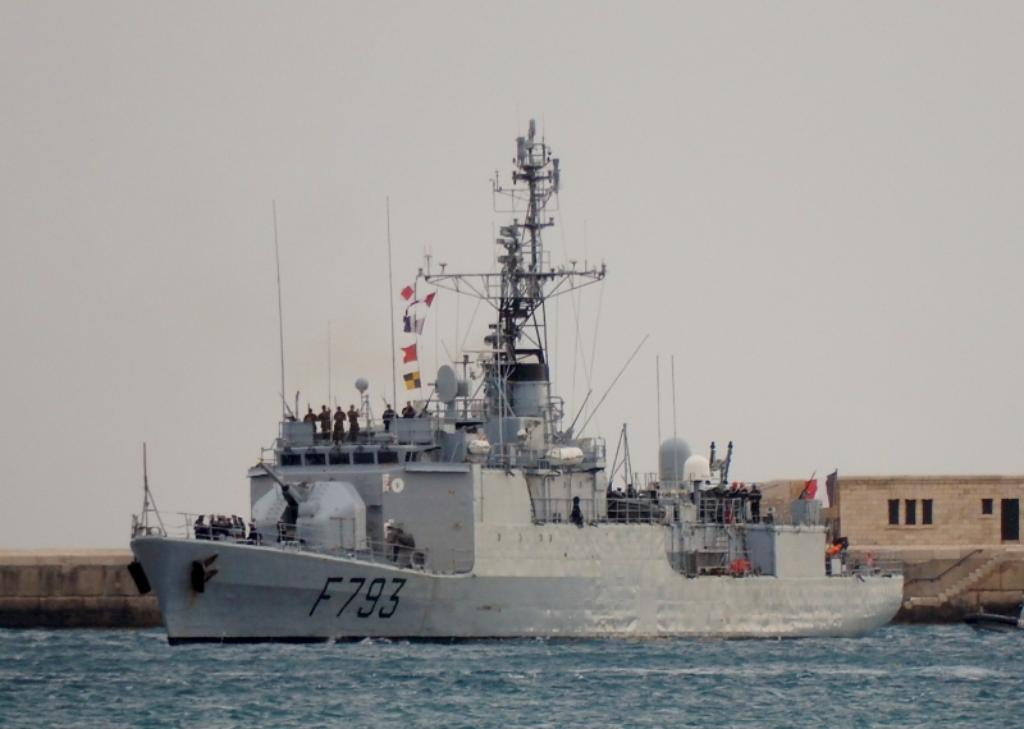Warship: (123, 110, 911, 642)
